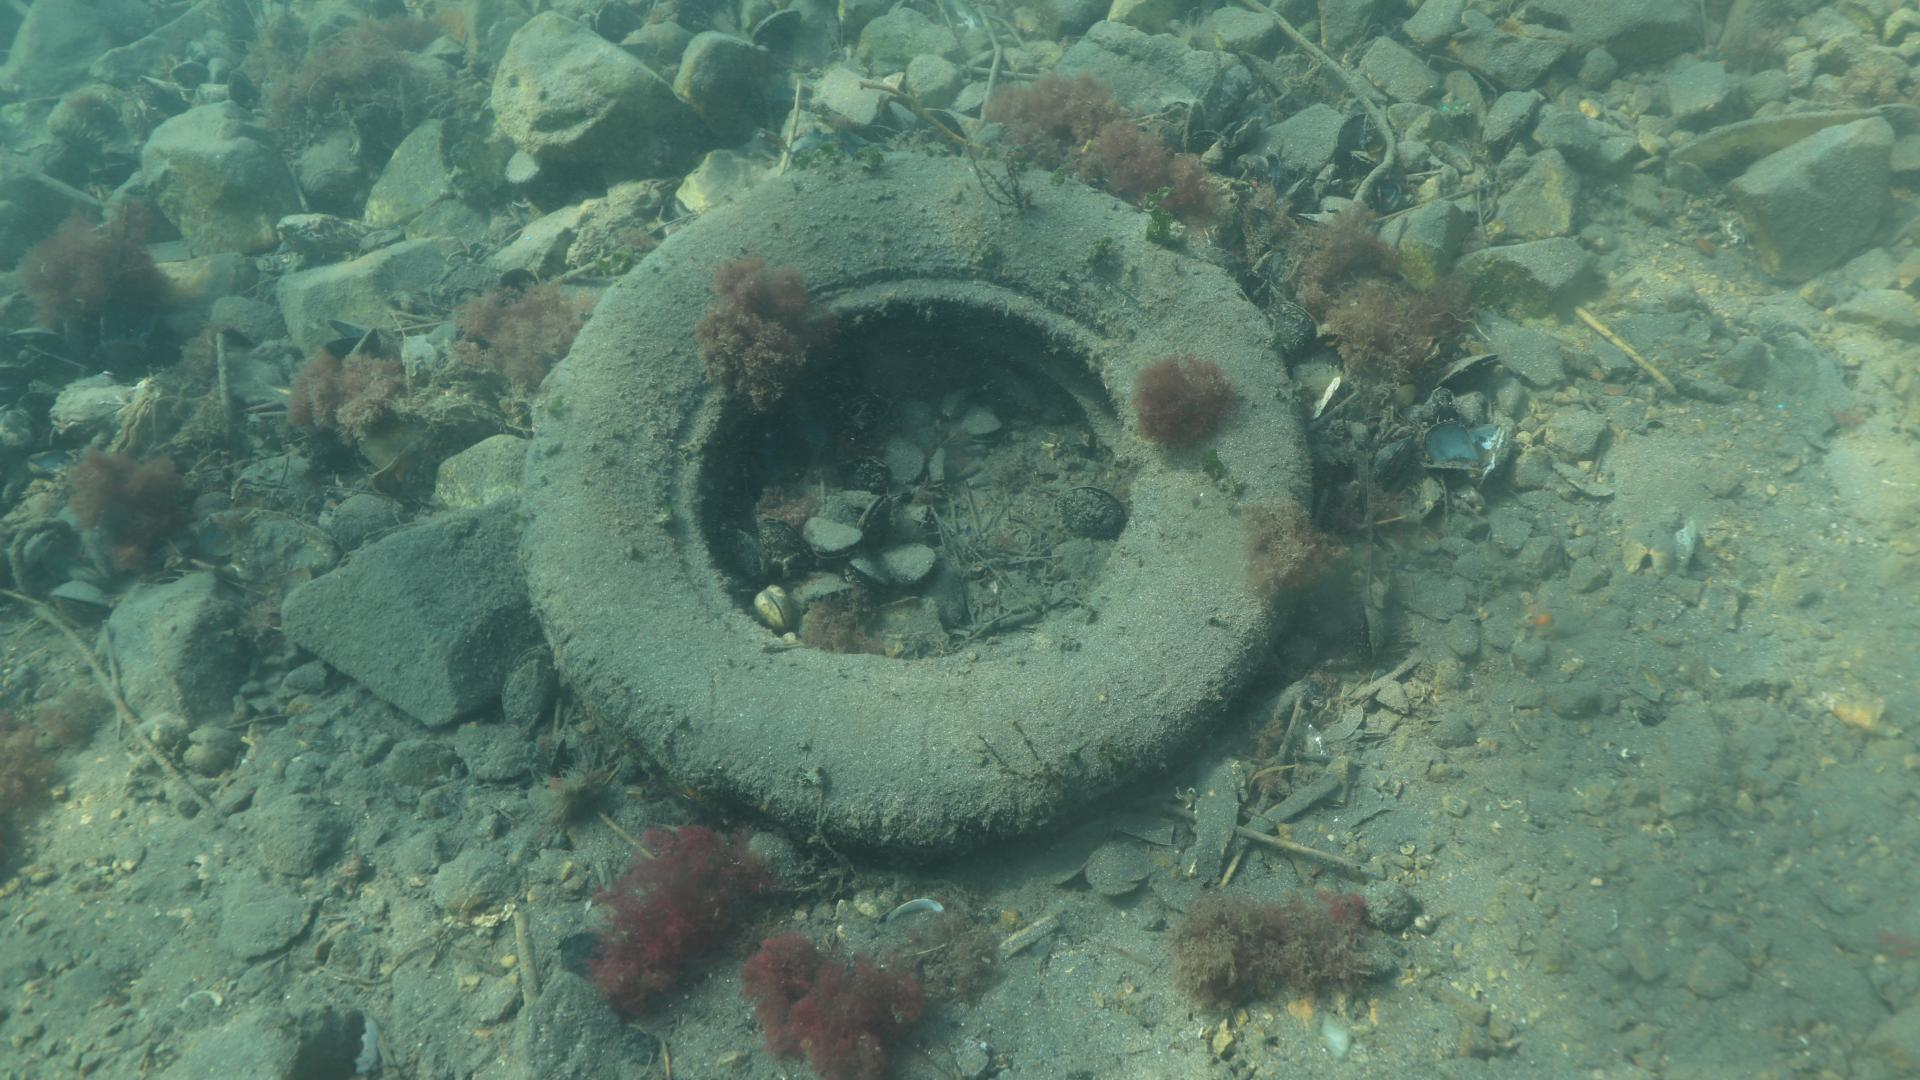tire: (521, 150, 1313, 857)
